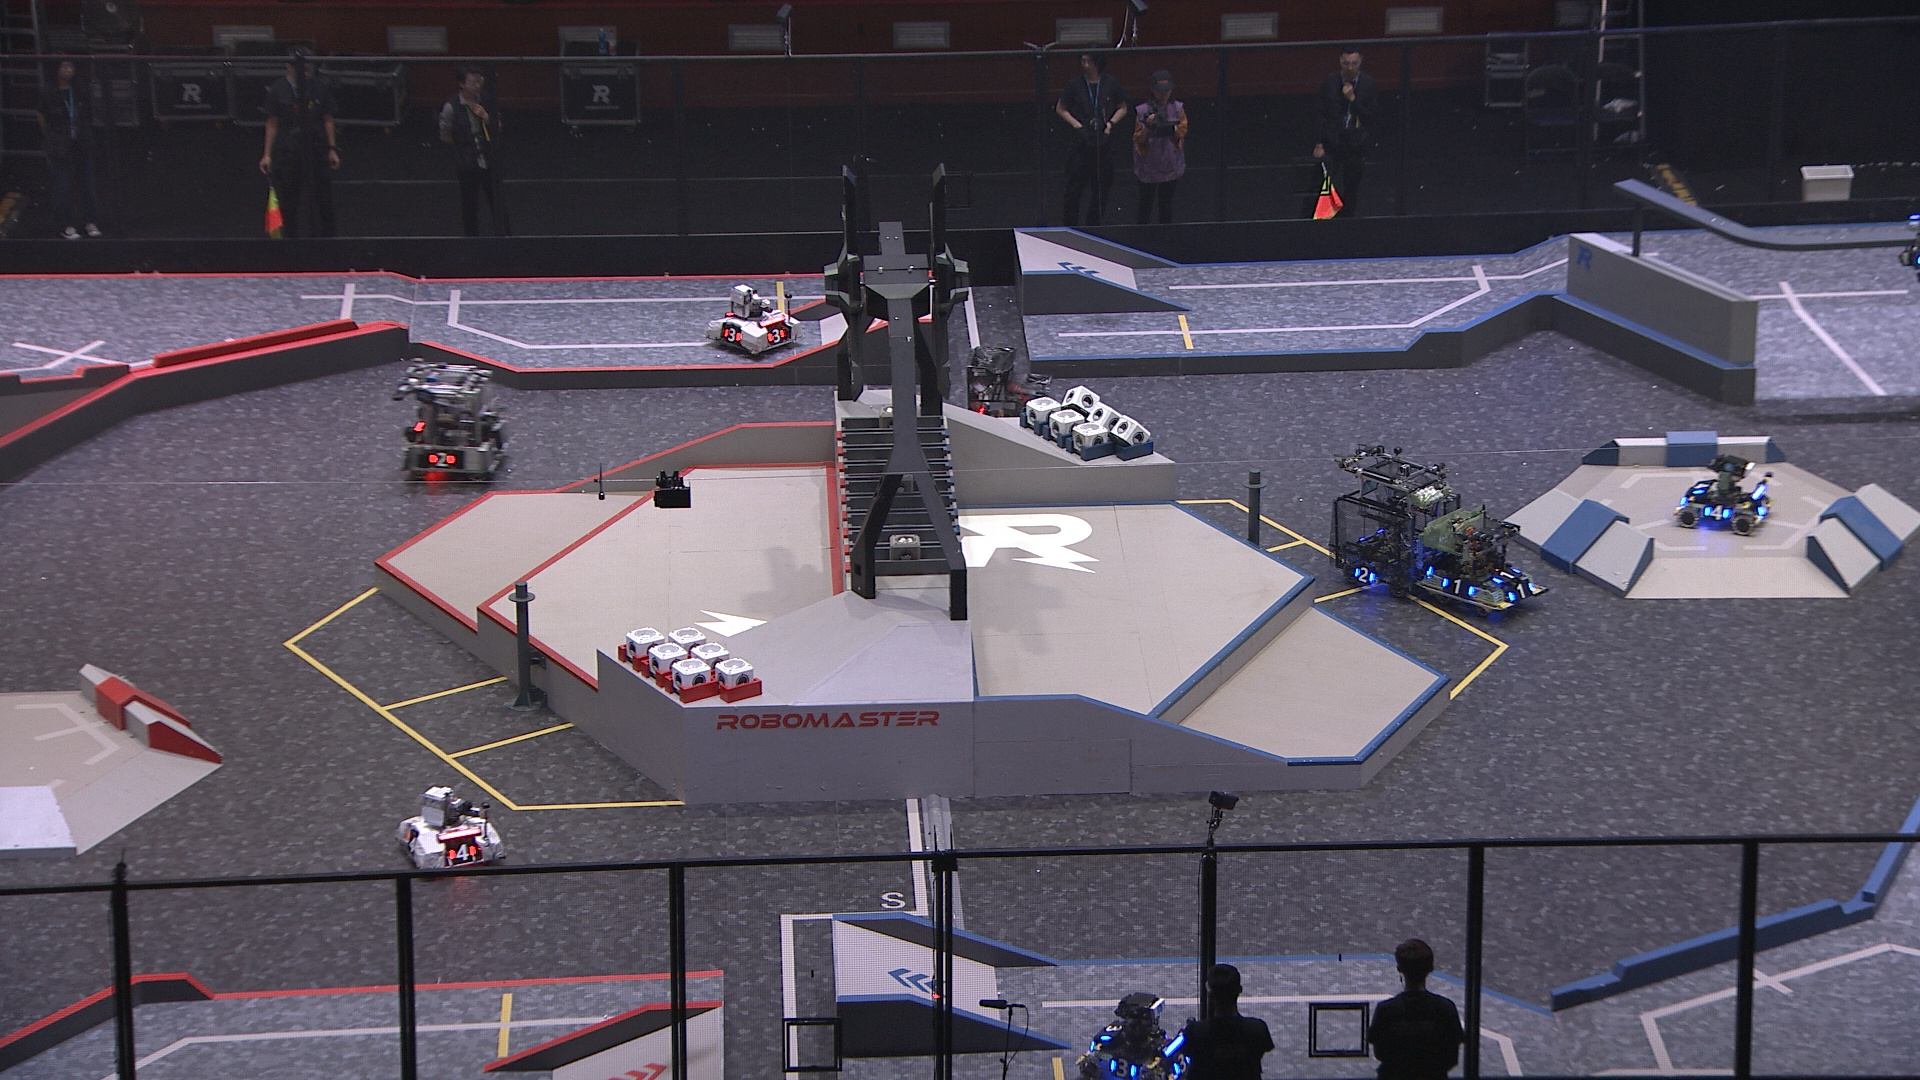armor: (1441, 576, 1477, 597), (1109, 1058, 1139, 1080), (1702, 502, 1735, 522), (447, 841, 477, 862), (1097, 1022, 1124, 1044), (429, 450, 458, 469), (1509, 583, 1534, 604), (1491, 566, 1522, 583), (1353, 566, 1375, 585), (1174, 1054, 1192, 1077), (1689, 480, 1712, 498), (723, 324, 742, 344), (1756, 498, 1774, 518), (405, 831, 419, 853), (767, 328, 785, 343)
car: (1327, 447, 1466, 599), (1414, 504, 1551, 622), (394, 357, 508, 487), (1077, 988, 1193, 1080), (394, 789, 512, 876), (965, 348, 1058, 442), (1675, 456, 1776, 534), (702, 282, 798, 357)
watcher: (1898, 214, 1920, 290)
